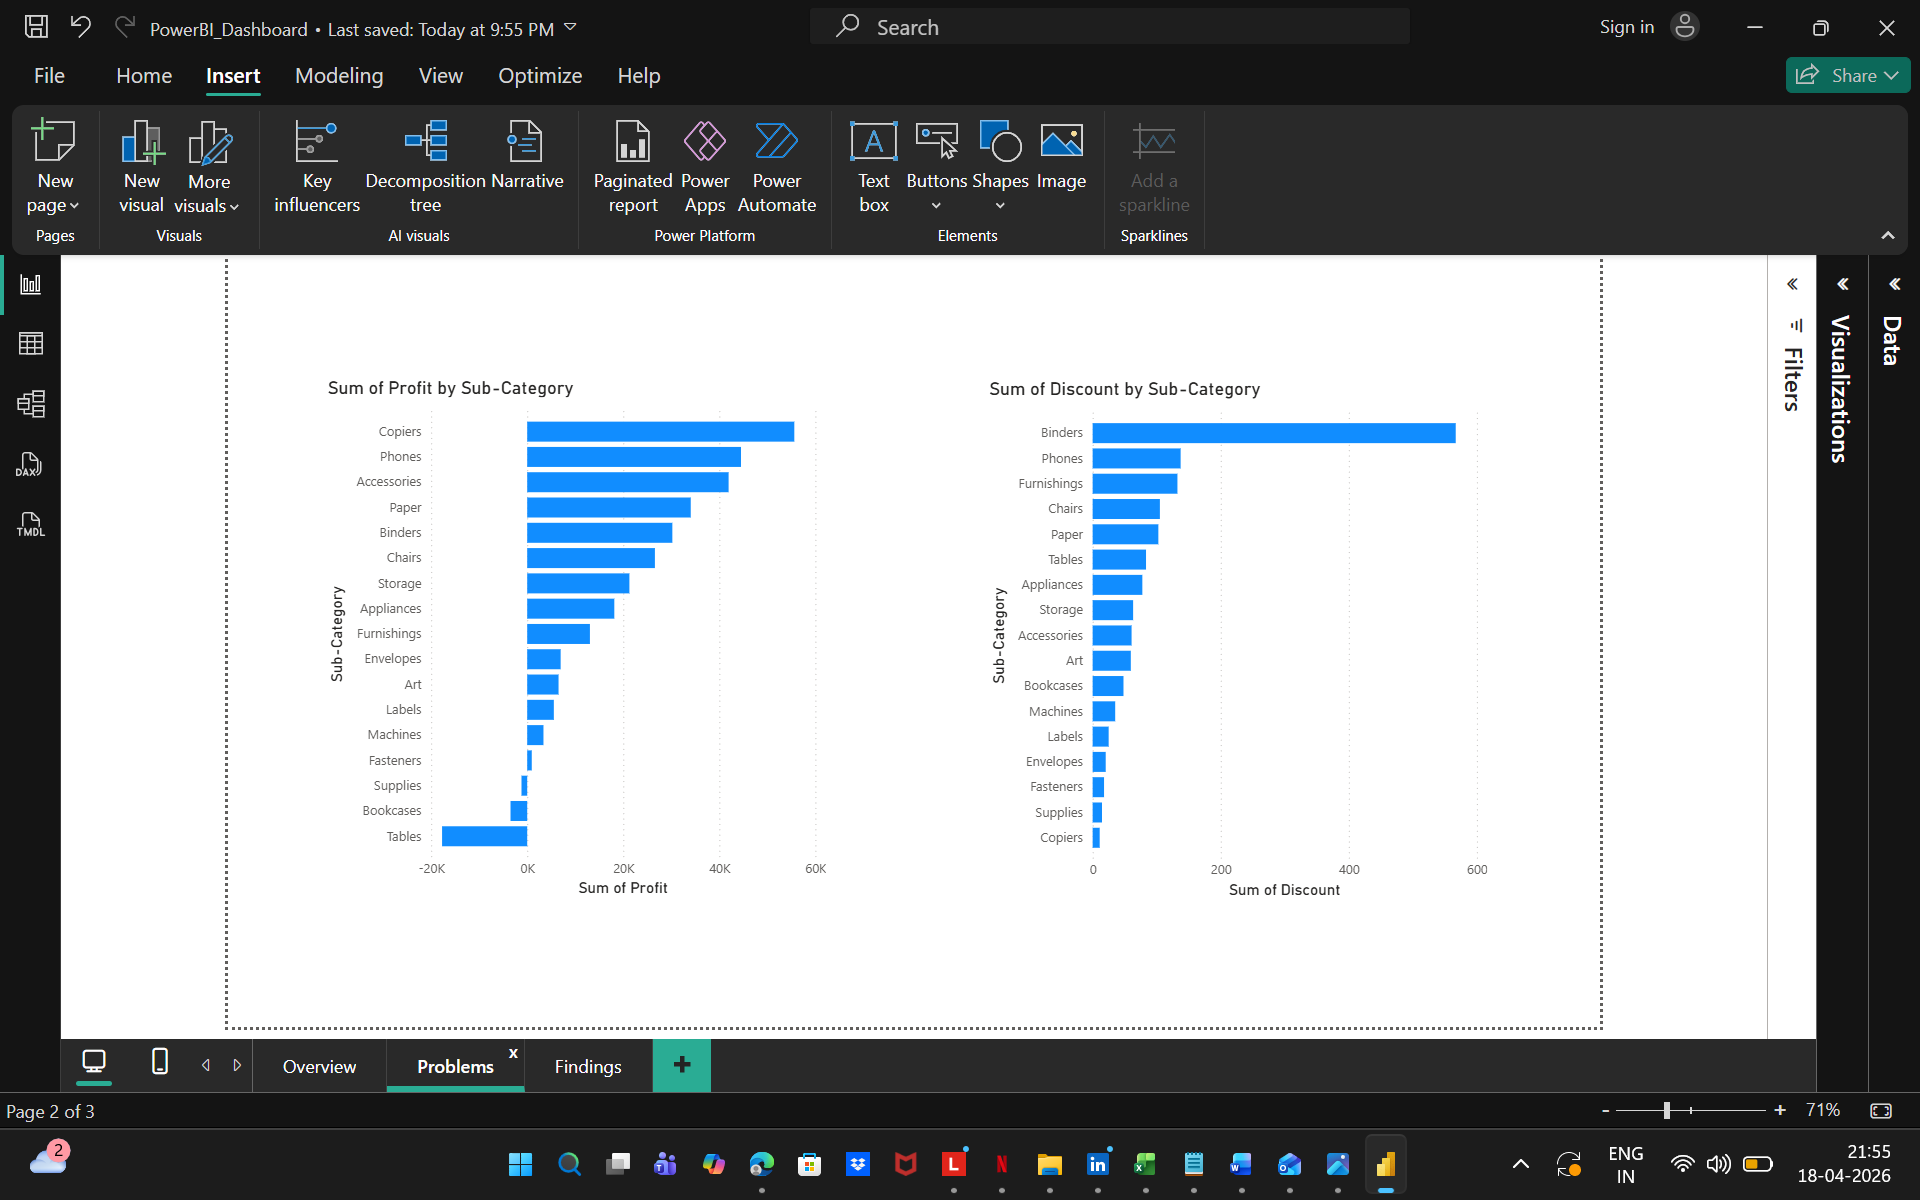

This screenshot's page, from the dashboard's own definition file:
{"tool":"powerbi","page":{"name":"Problems","canvas":[1280,720],"ordinal":1},"visuals":[{"type":"barChart","fields":{"Category":["Sample_ Superstore.Sub-Category"],"Y":["Sum(Sample_ Superstore.Profit)"]},"box":[88.8,113.4,474.3,489.5],"z":0},{"type":"barChart","fields":{"Category":["Sample_ Superstore.Sub-Category"],"Y":["Sum(Sample_ Superstore.Discount)"]},"box":[704.9,115.3,474.3,489.5],"z":1000}]}

Visuals, with their boxes on the page's 1280x720 design canvas (x1, y1, x2, y2). These are canvas units, not pixel positions in the 1920x1200 screenshot, which may show the page scaled, cropped or inside an application window:
barChart - Sample_ Superstore.Sub-Category x Sum(Sample_ Superstore.Profit): select_region(89, 113, 563, 603)
barChart - Sample_ Superstore.Sub-Category x Sum(Sample_ Superstore.Discount): select_region(705, 115, 1179, 605)
